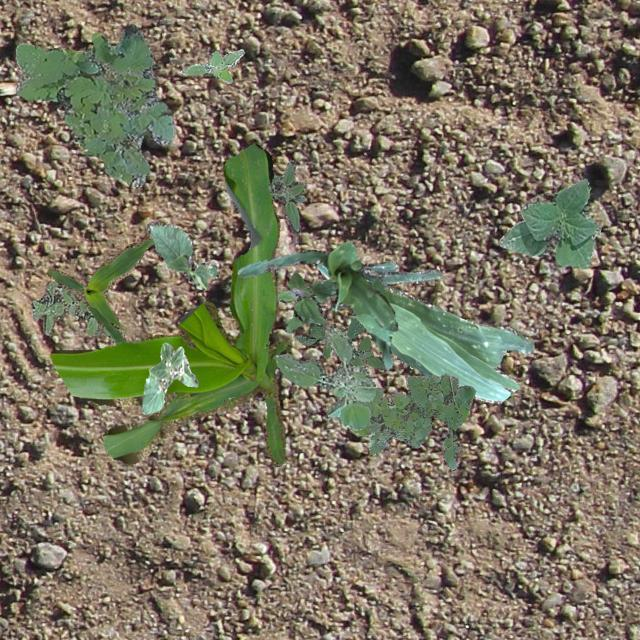crop: (50, 142, 286, 466), (316, 259, 532, 402), (236, 240, 394, 370), (45, 236, 154, 344), (498, 178, 600, 268), (146, 220, 220, 288), (140, 342, 198, 414)
weed: (14, 24, 172, 186), (354, 372, 474, 470), (272, 326, 374, 429), (293, 276, 397, 370), (30, 280, 116, 344), (232, 158, 306, 232), (276, 272, 334, 332), (178, 48, 244, 82)
